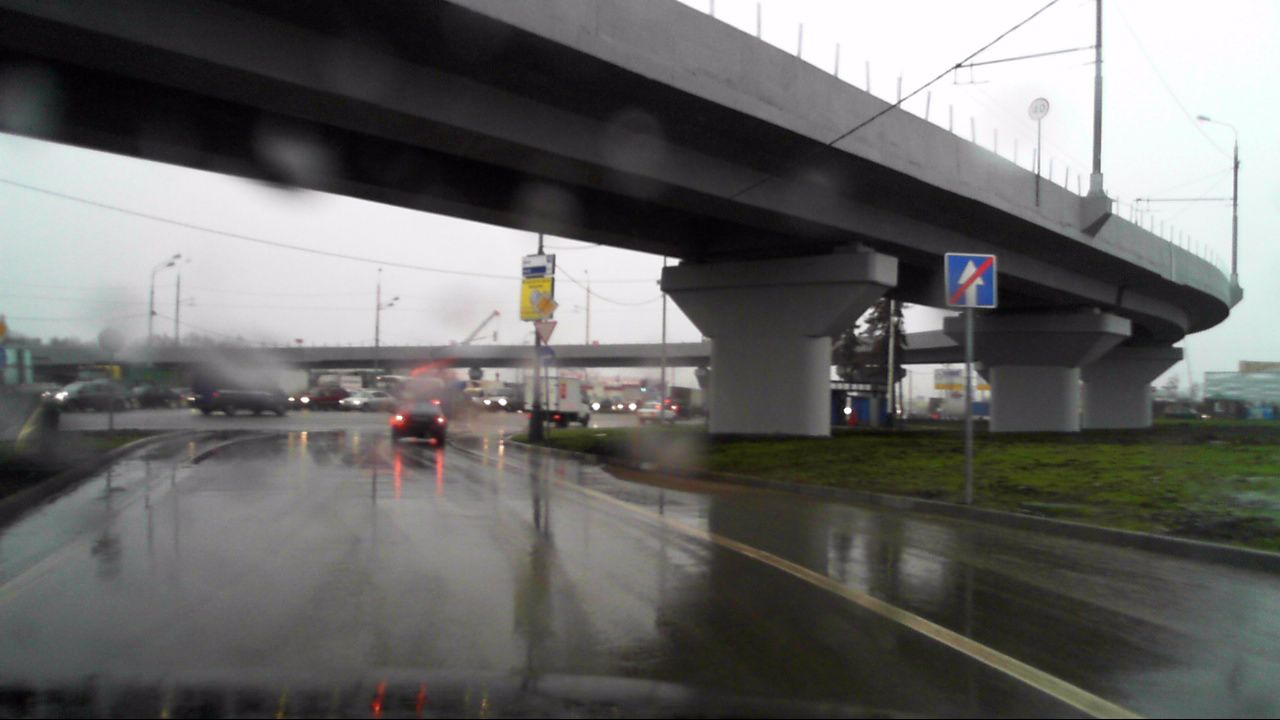main road: (534, 294, 558, 319)
